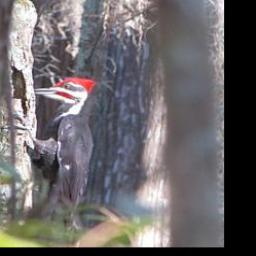Woodpecker: (0, 76, 100, 238)
